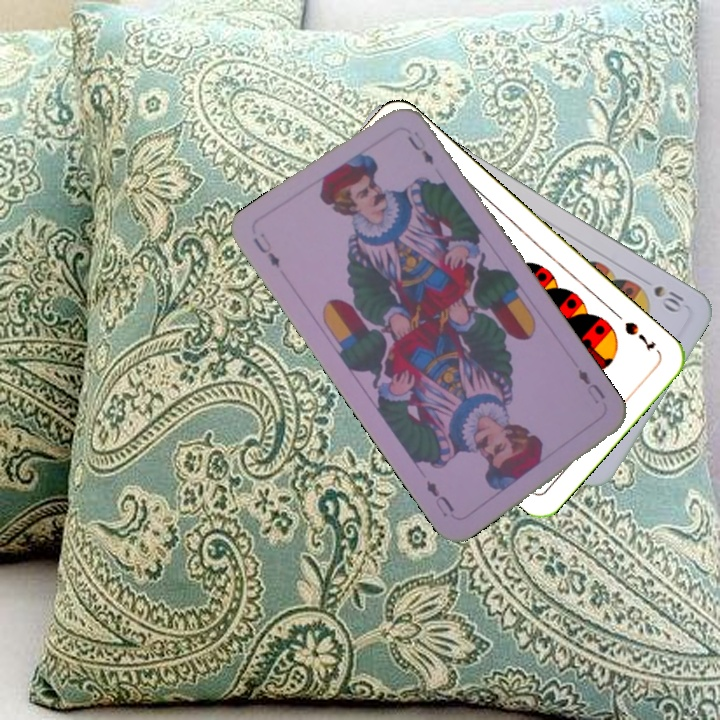EU: (573, 364, 608, 407), (249, 228, 283, 271)
S10: (649, 281, 687, 315)
S7: (620, 317, 659, 354)
